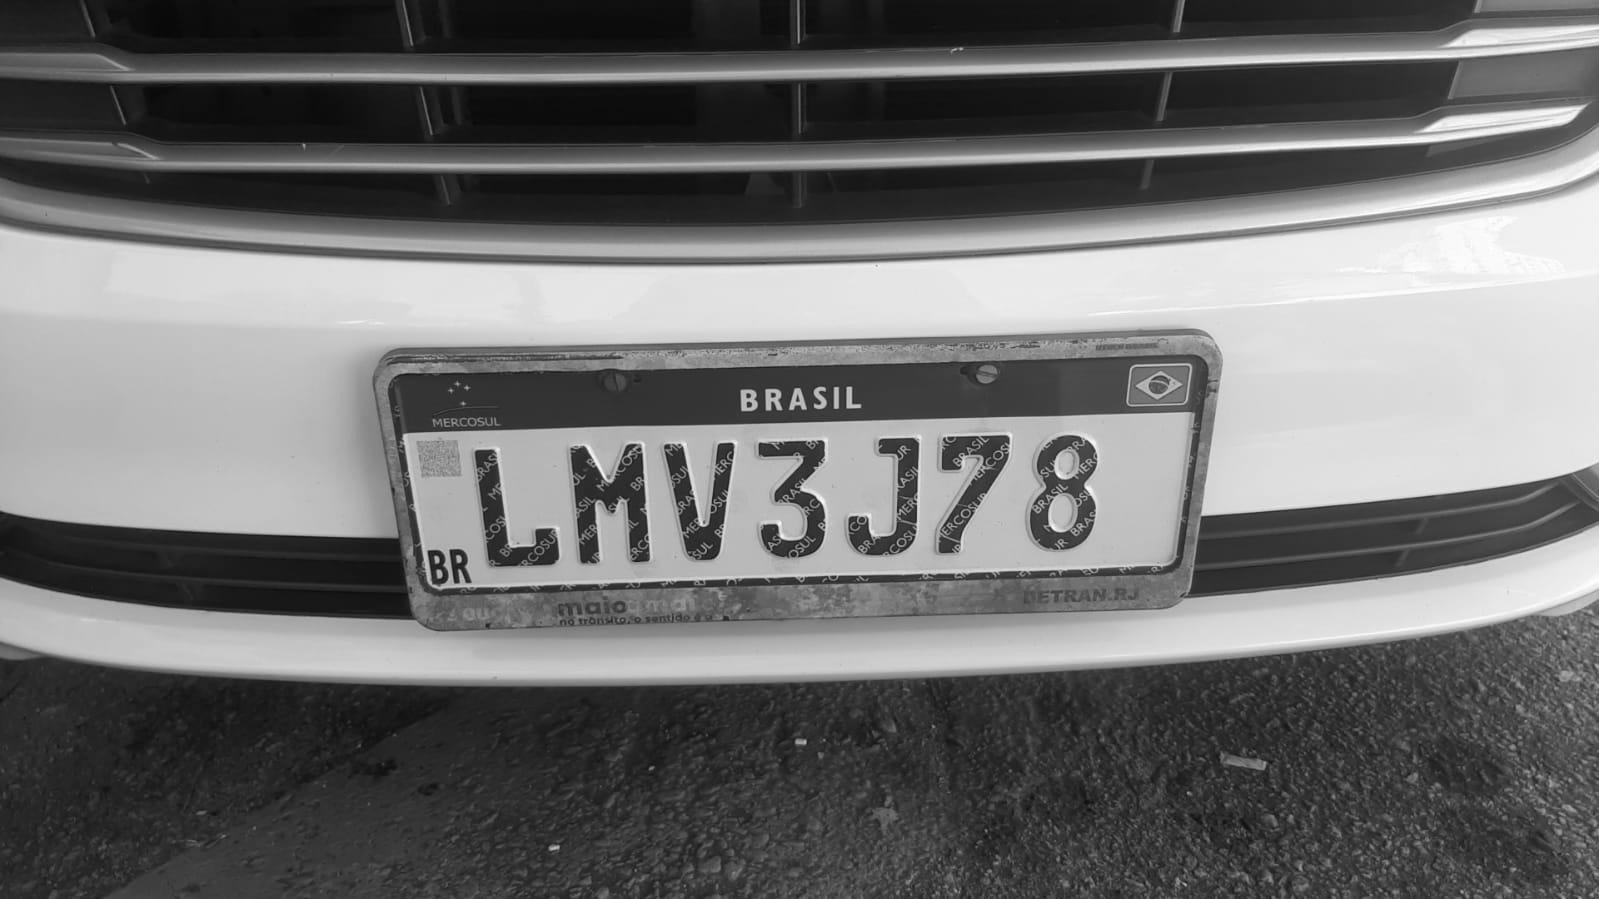placa_mercosul: (377, 333, 1218, 628)
